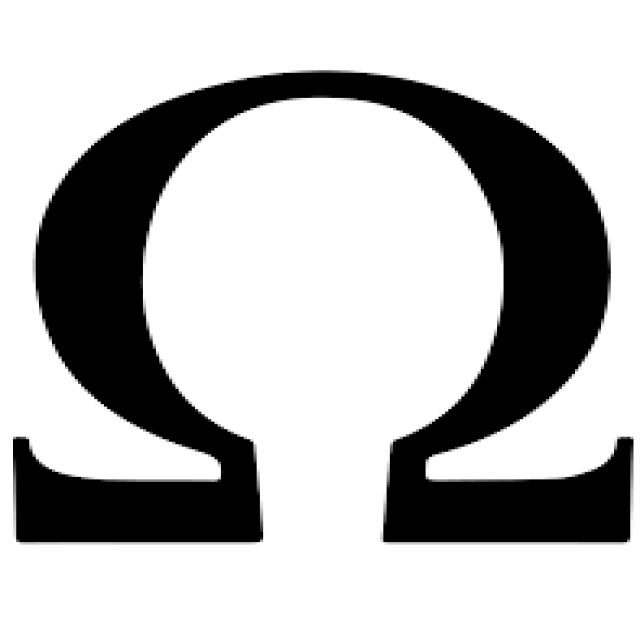ohms: (6, 24, 636, 570)
